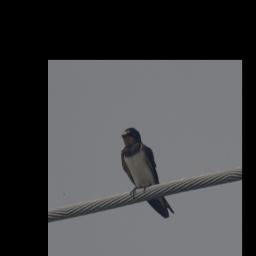Swallow: (116, 121, 176, 226)
